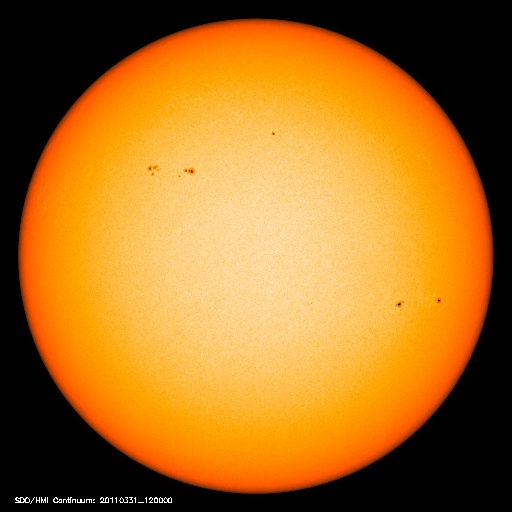sunspot: (136, 153, 213, 185), (380, 290, 458, 318), (254, 119, 289, 147)
